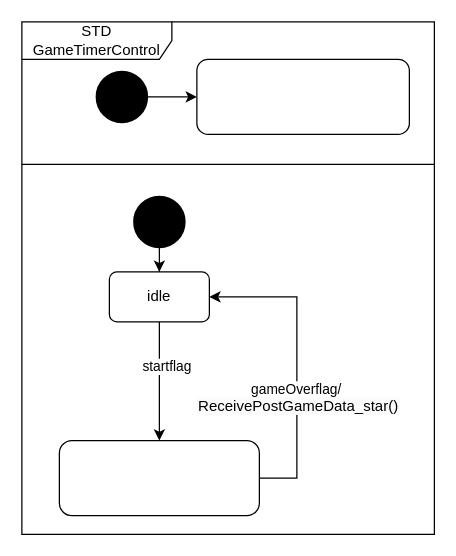
Some shapes in this 456 by 556 pixel diagram are drawn without their labels. The centre of each missing label's shape, as x and y in pixels:
"GameTimerControl entry / displayTime: start()" goes at [158,477].
"start()/startflag.set() gameOver()/gameOverflag.set()" goes at [302,96].
